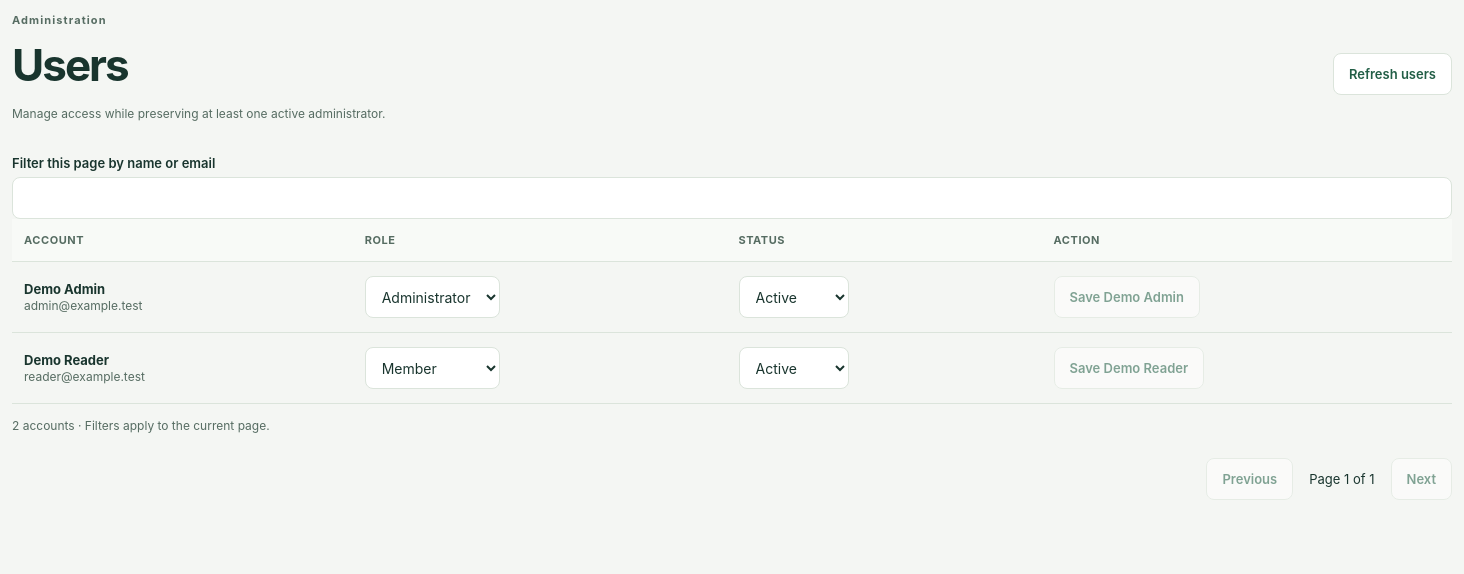
administrator user management › displays last-administrator conflict without pretending the update succeeded
The width and height of the screenshot is (1464, 574).
Expected: the text "admin@example.test" is shown, [24,298,142,313]
Select "Disabled" in the dropdown named "Status for admin@example.test": {"x": 794, "y": 297} [738,276,848,318]
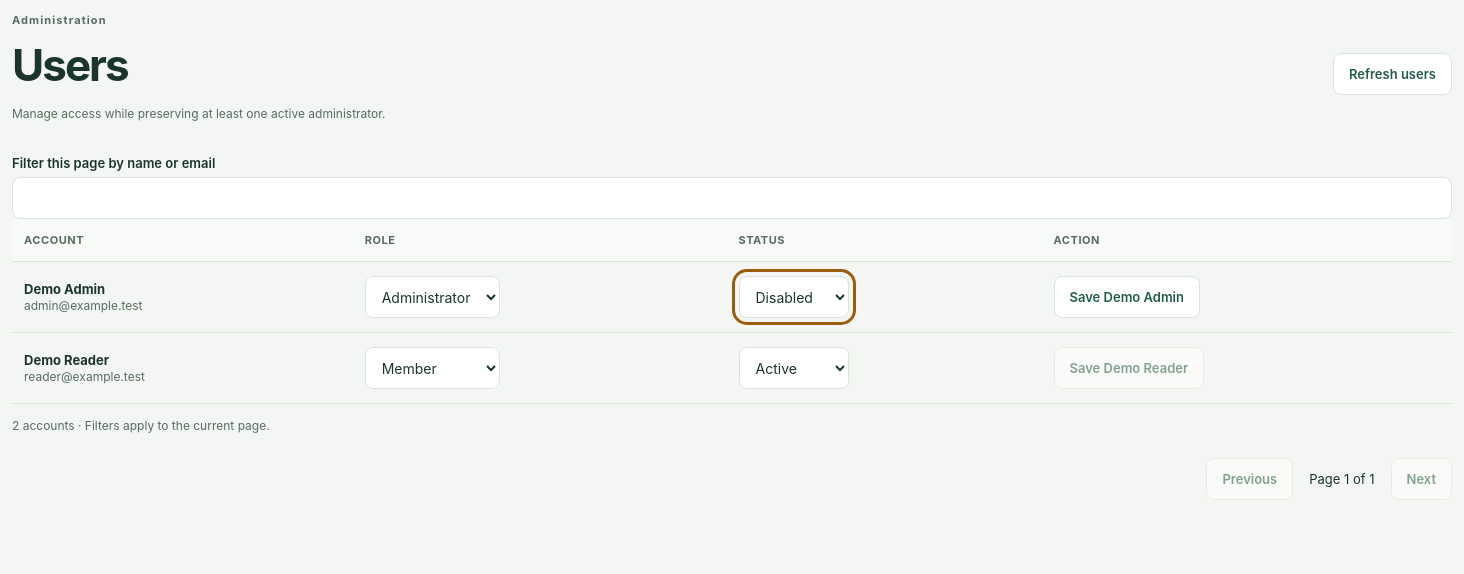
Click the button "Save Demo Admin": {"x": 1127, "y": 297} [1054,276,1200,318]
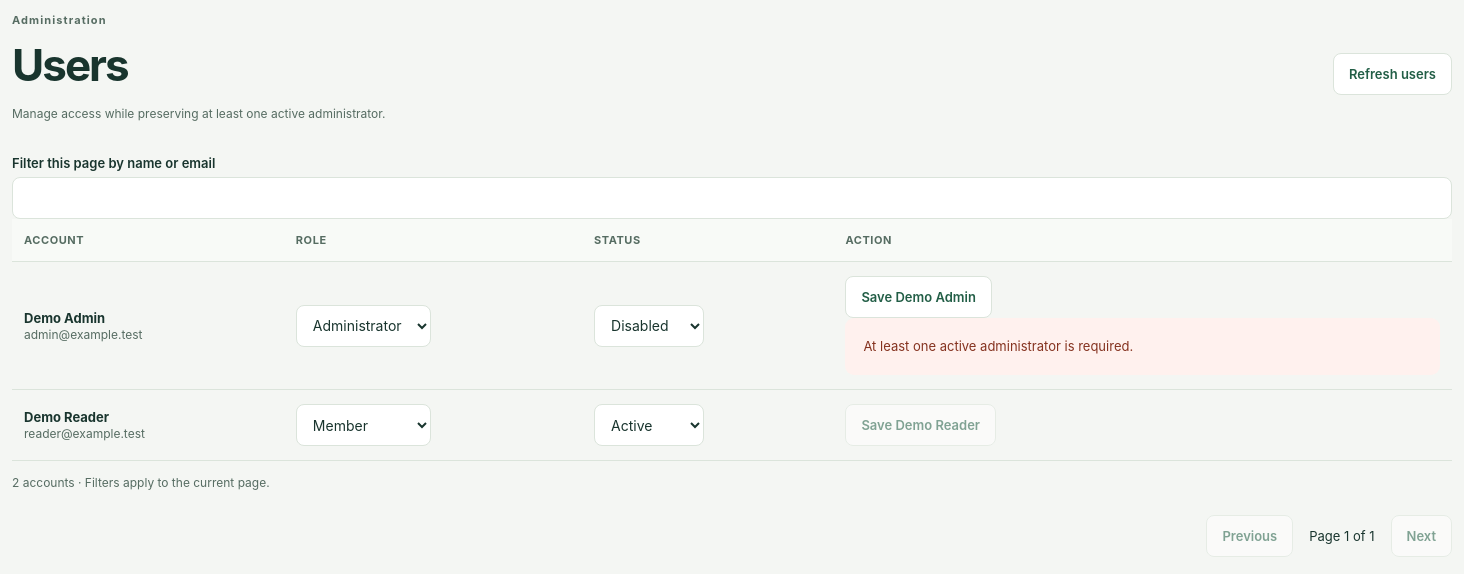
Now the message reads "At least one active administrator is required.", box [863,338,1133,354]
